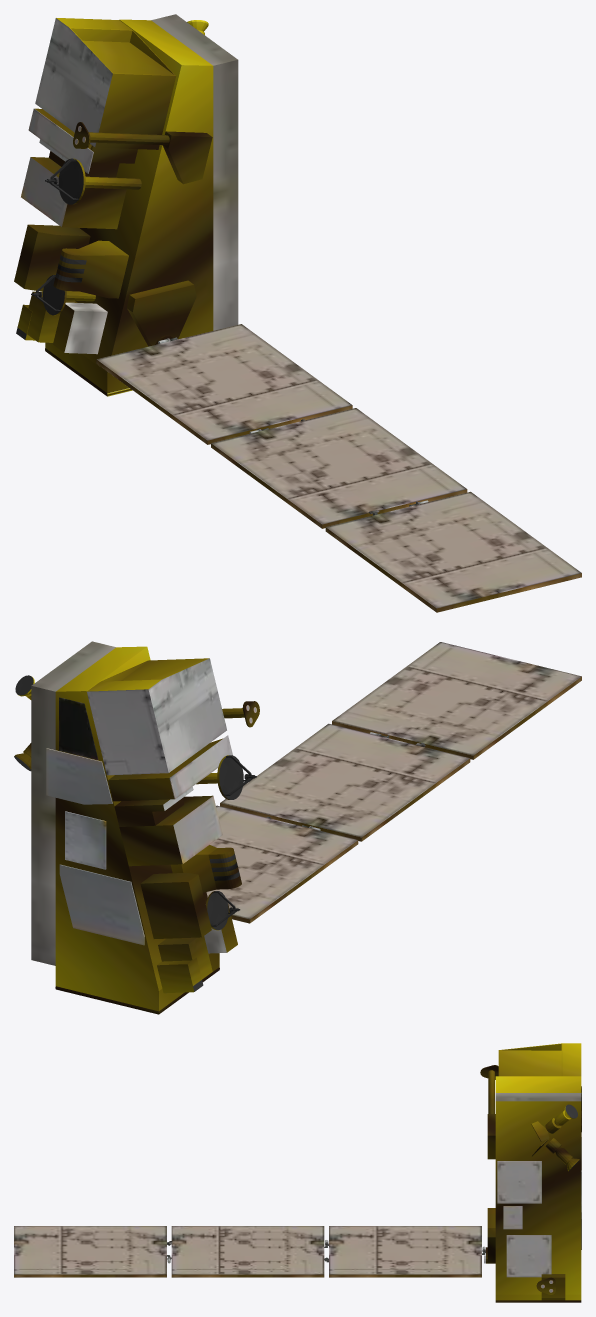
File: suomi-npp-preview.glb
The picture shows the model from 3 angles, top to bottom: view 1: azimuth 30°, elevation 25°; view 2: azimuth 150°, elevation 25°; view 3: azimuth 270°, elevation 25°; orthographic projection. The views are drawn at different scales.
Visible parts, largest first — view 1: shiny_panel, foil_gold, tex_02, AO_01; view 2: shiny_panel, foil_gold, tex_02, AO_01, foil_silver; view 3: shiny_panel, foil_gold, tex_02.
Part boxes in pixels (left/top/right/bottom): shiny_panel: left=74, top=126, right=581, bottom=612; foil_gold: left=14, top=18, right=213, bottom=396; tex_02: left=21, top=14, right=238, bottom=354; AO_01: left=31, top=158, right=83, bottom=315; shiny_panel: left=46, top=642, right=581, bottom=945; foil_gold: left=15, top=646, right=259, bottom=1014; tex_02: left=31, top=641, right=232, bottom=965; AO_01: left=14, top=675, right=256, bottom=929; foil_silver: left=193, top=854, right=239, bottom=991; shiny_panel: left=14, top=1132, right=581, bottom=1292; foil_gold: left=480, top=1043, right=581, bottom=1302; tex_02: left=495, top=1086, right=581, bottom=1132.
Bounding box in the file's own units: 2.57 × 4.18 × 8.96.
5 materials, 5 textured.
